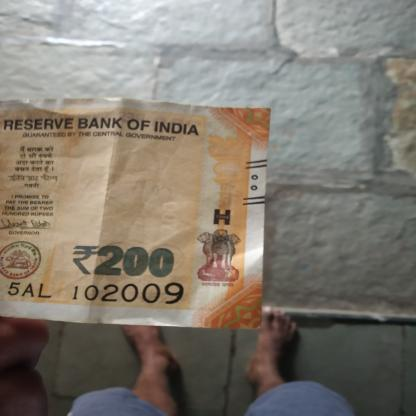New200Front: (0, 97, 256, 323)
